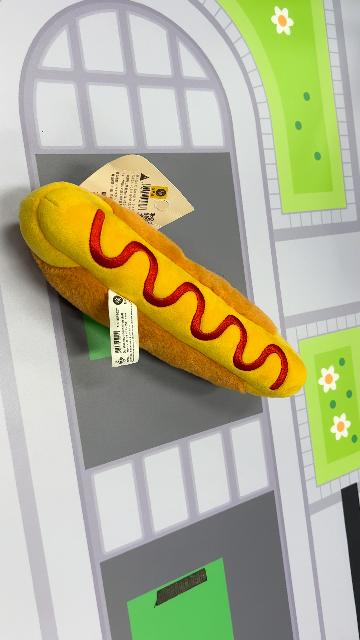hotdog: (18, 180, 310, 400)
